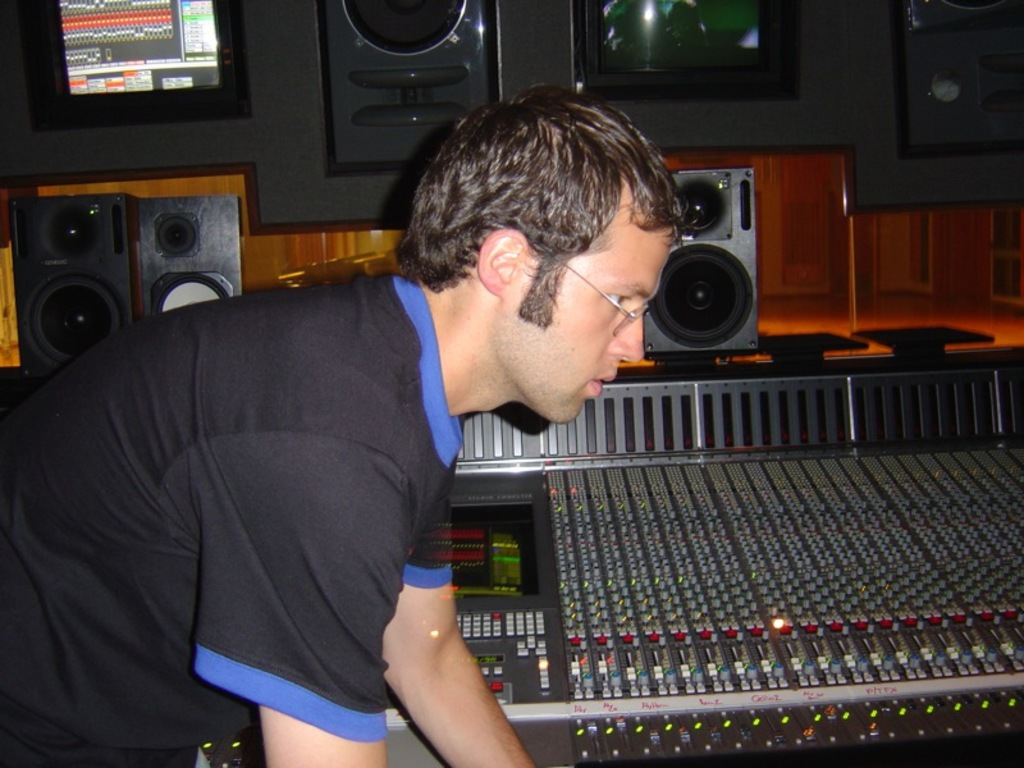Person: (1, 77, 717, 768)
